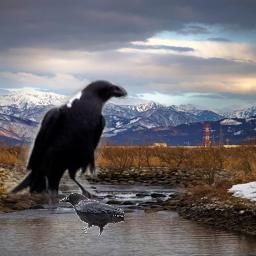Crow: (3, 76, 130, 221), (59, 193, 124, 236)
